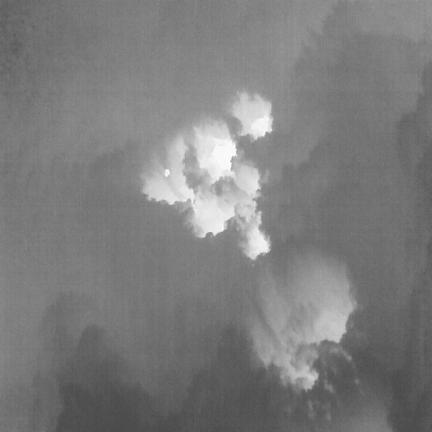flukeprints: (194, 193, 234, 235), (211, 140, 236, 173), (251, 115, 271, 138), (164, 169, 170, 177)
